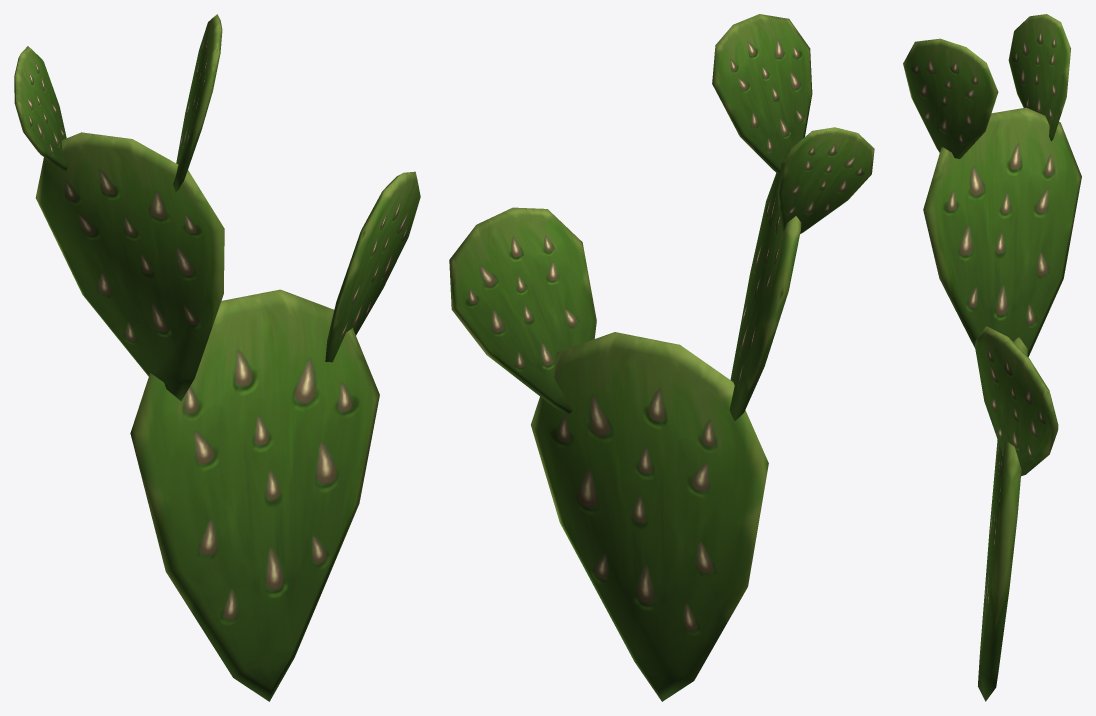
File: Cactus02.FBX
3 views of the same model, side by side, from view 1: azimuth 30°, elevation 25°; view 2: azimuth 150°, elevation 25°; view 3: azimuth 270°, elevation 25° (orthographic). The views are drawn at different scales.
Parts seen in each view (by area): view 1: Cactus02; view 2: Cactus02; view 3: Cactus02.
Boxes of the visible parts, x1=… form: Cactus02: x1=14, y1=14, x2=420, y2=701; Cactus02: x1=449, y1=14, x2=874, y2=701; Cactus02: x1=903, y1=14, x2=1081, y2=701.
Bounding box in the file's own units: 6.2 × 10.03 × 2.58.
